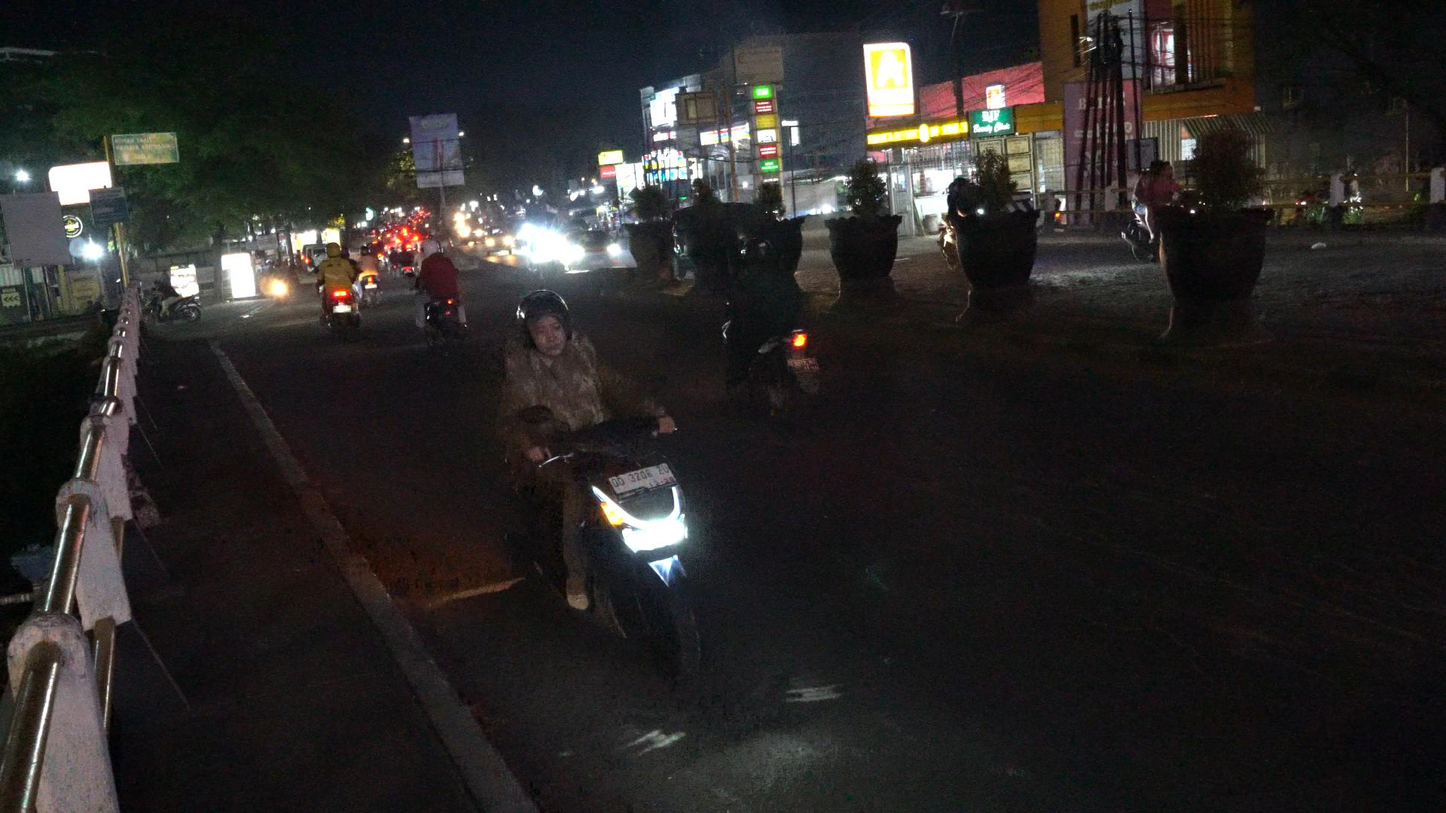number-plate: (603, 457, 680, 505)
